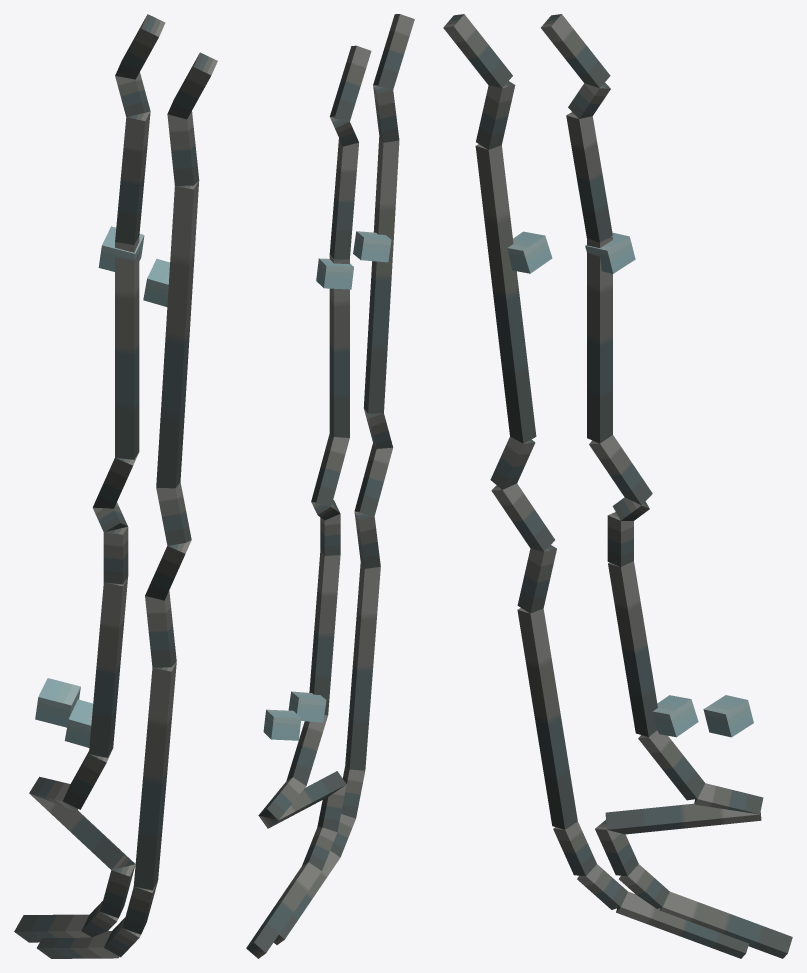
Rendered from pz_native_electrical_190.obj.
3 views of the same model, side by side, from view 1: azimuth 30°, elevation 25°; view 2: azimuth 150°, elevation 25°; view 3: azimuth 270°, elevation 25° (orthographic). The views are drawn at different scales.
Parts seen in each view (by area): view 1: conduit, conduit_end; view 2: conduit, conduit_end; view 3: conduit, conduit_end.
Boxes of the visible parts, x1,y1,x2,y2 form: conduit: (14,16,211,958); conduit_end: (38,14,217,957); conduit: (246,14,414,952); conduit_end: (246,85,392,958); conduit: (443,14,792,958); conduit_end: (443,14,761,911).
Bounding box in the file's own units: 0.042 × 0.9556 × 0.3205.
Materials: 1 (1 with a texture image).
